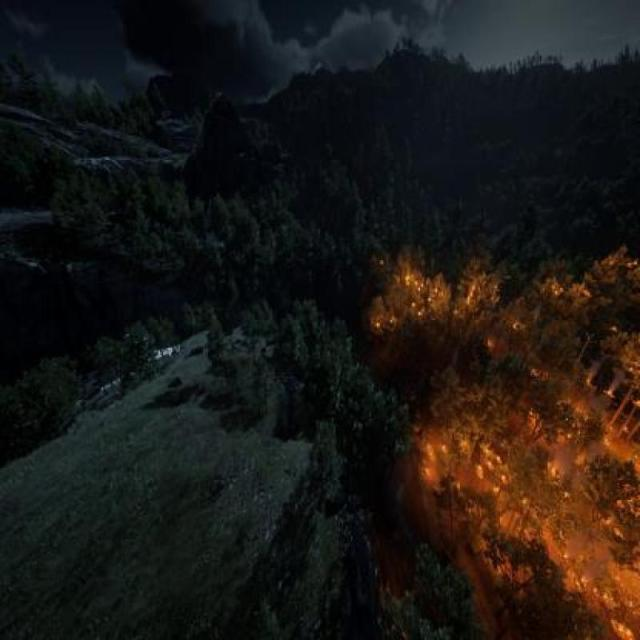Fire: (351, 243, 639, 640)
